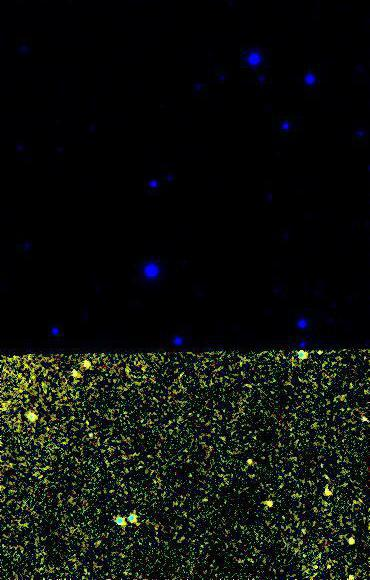star: (68, 419, 98, 449)
